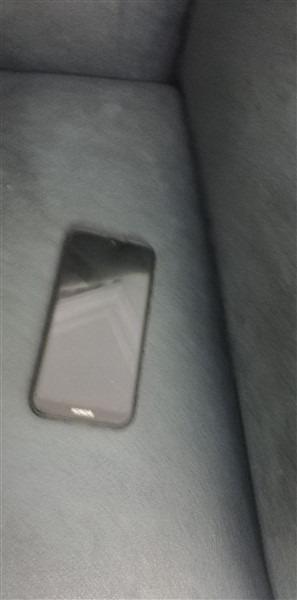telefon: (25, 222, 166, 440)
